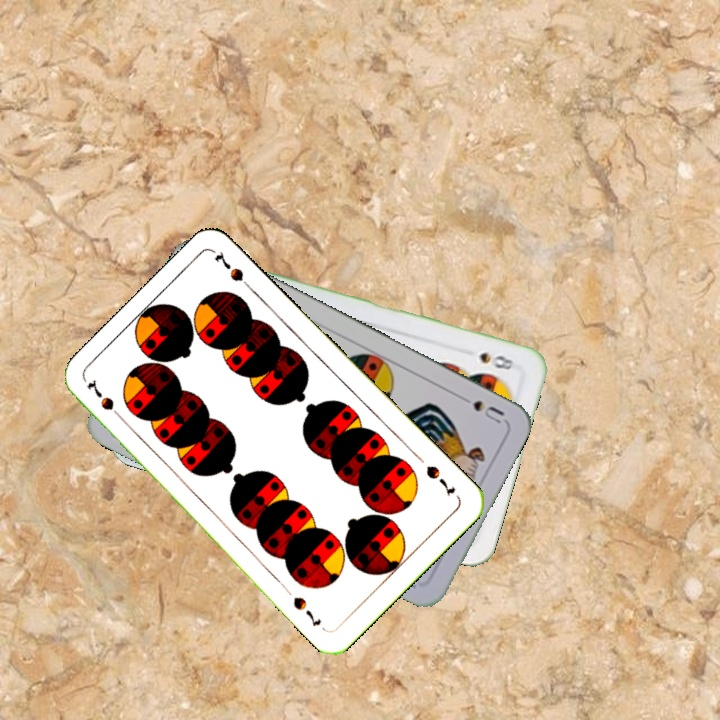S7: (83, 376, 127, 425), (422, 461, 458, 500)
S8: (475, 348, 517, 373)
SU: (452, 390, 507, 427)
